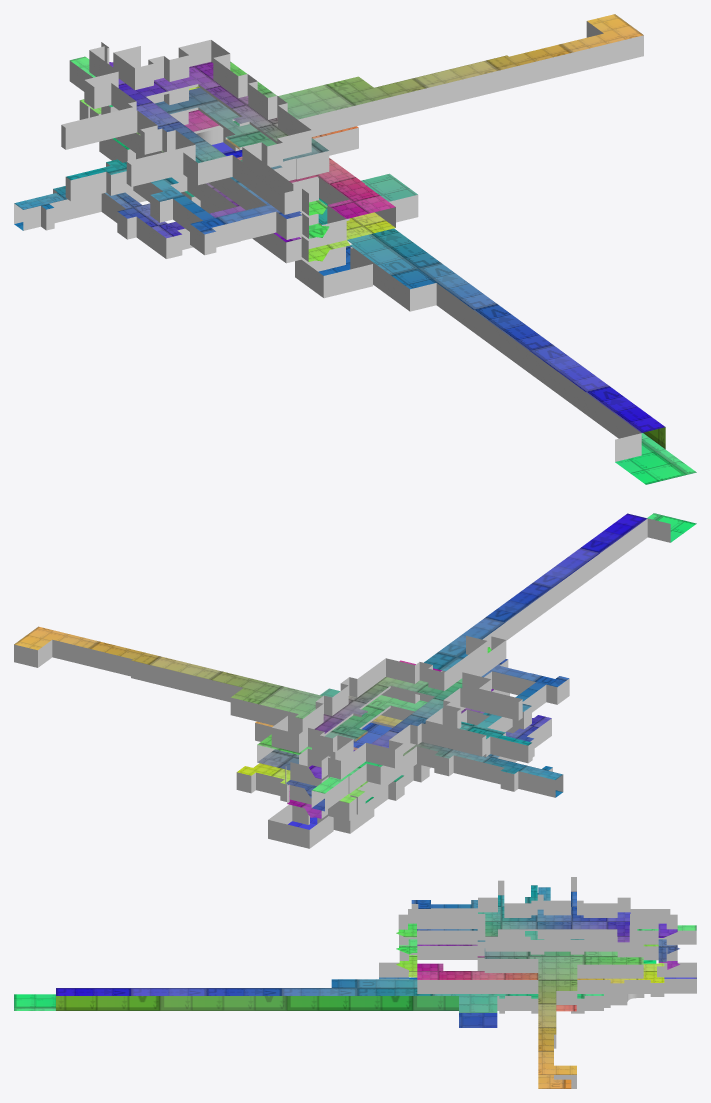
The model's file is CS_Building_V2_OBJ.obj.
3 renders of one model, top to bottom at view 1: azimuth 30°, elevation 25°; view 2: azimuth 150°, elevation 25°; view 3: azimuth 270°, elevation 25°, orthographic. The views are drawn at different scales.
Parts seen in each view (by area): view 1: CS_Building1; view 2: CS_Building1; view 3: CS_Building1.
Part boxes in pixels (left/top/right/bottom): CS_Building1: left=14, top=14, right=696, bottom=484; CS_Building1: left=14, top=513, right=696, bottom=848; CS_Building1: left=14, top=877, right=696, bottom=1088.
Bounding box in the file's own units: 28.12 × 4.06 × 39.91.
Materials: 2 (1 with a texture image).
